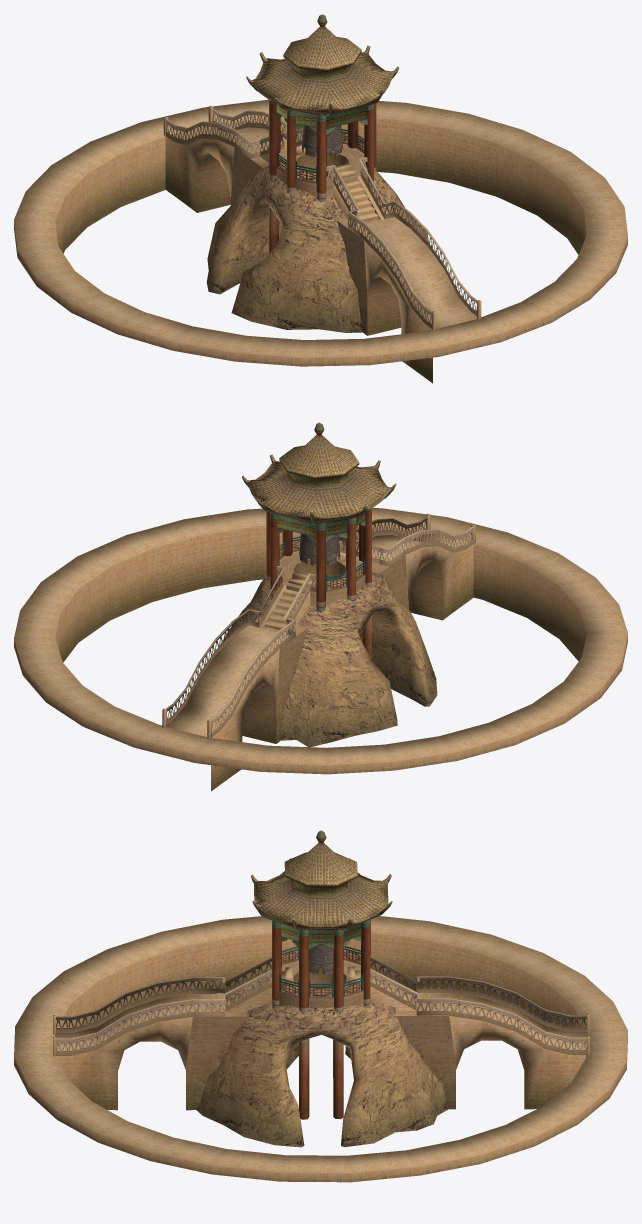
The model's file is w_cd_portal.glb.
3 renders of one model, top to bottom at view 1: azimuth 30°, elevation 25°; view 2: azimuth 150°, elevation 25°; view 3: azimuth 270°, elevation 25°, orthographic.
Visible parts, largest first — view 1: W_CD_portal_04, W_CD_portal_03, W_CD_portal_01, W_CD_portal_05, W_CD_portal_02, W_CD_portal_07, W_CD_portal_floor, W_CD_portal_bell01; view 2: W_CD_portal_04, W_CD_portal_03, W_CD_portal_01, W_CD_portal_05, W_CD_portal_02, W_CD_portal_07, W_CD_portal_floor, W_CD_portal_bell01; view 3: W_CD_portal_04, W_CD_portal_03, W_CD_portal_05, W_CD_portal_01, W_CD_portal_07, W_CD_portal_02, W_CD_portal_floor.
Boxes of the visible parts, box(x1,y1,x2,y2) form: W_CD_portal_04: box(14, 99, 627, 383); W_CD_portal_03: box(206, 165, 427, 332); W_CD_portal_01: box(246, 14, 399, 128); W_CD_portal_05: box(166, 108, 477, 328); W_CD_portal_02: box(269, 100, 376, 253); W_CD_portal_07: box(231, 147, 367, 335); W_CD_portal_floor: box(278, 143, 364, 181); W_CD_portal_bell01: box(302, 125, 342, 148); W_CD_portal_04: box(14, 508, 627, 791); W_CD_portal_03: box(218, 572, 437, 747); W_CD_portal_01: box(242, 422, 396, 537); W_CD_portal_05: box(166, 516, 473, 736); W_CD_portal_02: box(266, 508, 371, 659); W_CD_portal_07: box(276, 555, 408, 743); W_CD_portal_floor: box(279, 551, 362, 591); W_CD_portal_bell01: box(299, 533, 339, 555); W_CD_portal_04: box(14, 916, 627, 1182); W_CD_portal_03: box(196, 1001, 448, 1147); W_CD_portal_05: box(56, 935, 586, 1055); W_CD_portal_01: box(251, 830, 392, 942); W_CD_portal_07: box(186, 1016, 455, 1110); W_CD_portal_02: box(272, 919, 370, 1119); W_CD_portal_floor: box(281, 960, 360, 996).
Bounding box in the file's own units: 43.25 × 21.34 × 43.25.
10 materials, 10 textured.
